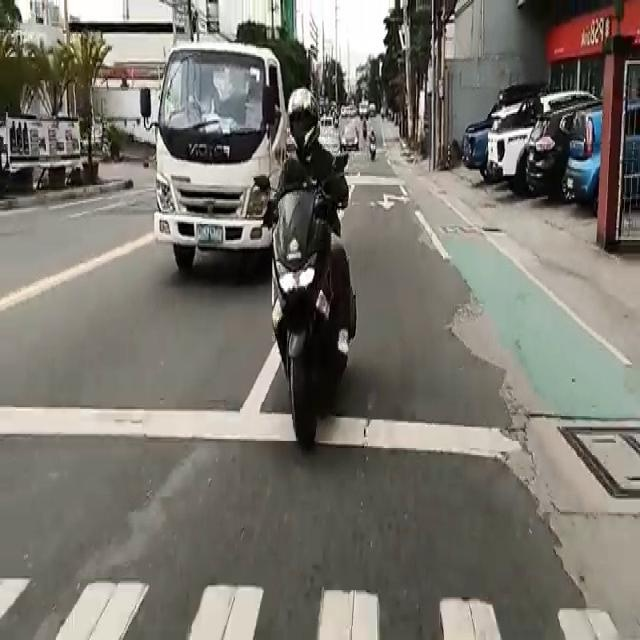car: (572, 109, 640, 216), (342, 124, 358, 150)
motorcycle: (281, 88, 347, 466), (367, 131, 377, 166)
truck: (158, 52, 272, 278)
